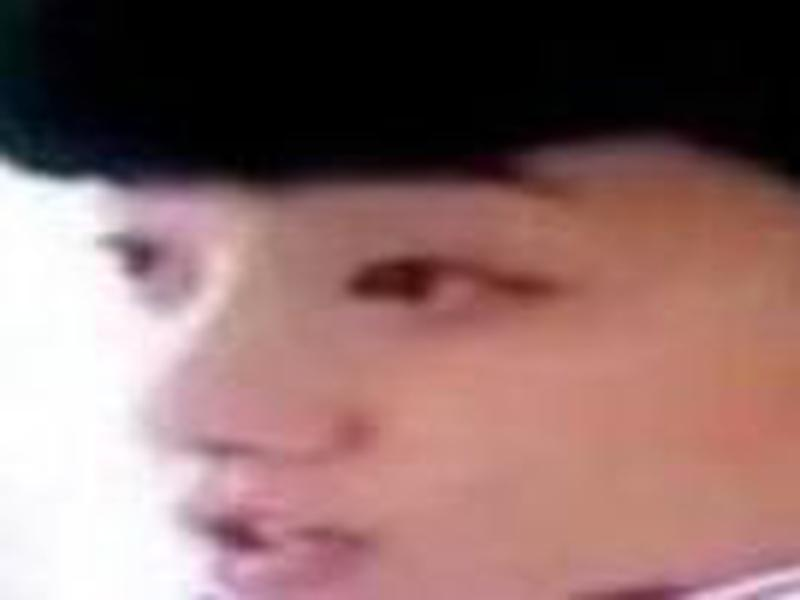without_mask: (106, 125, 800, 600)
